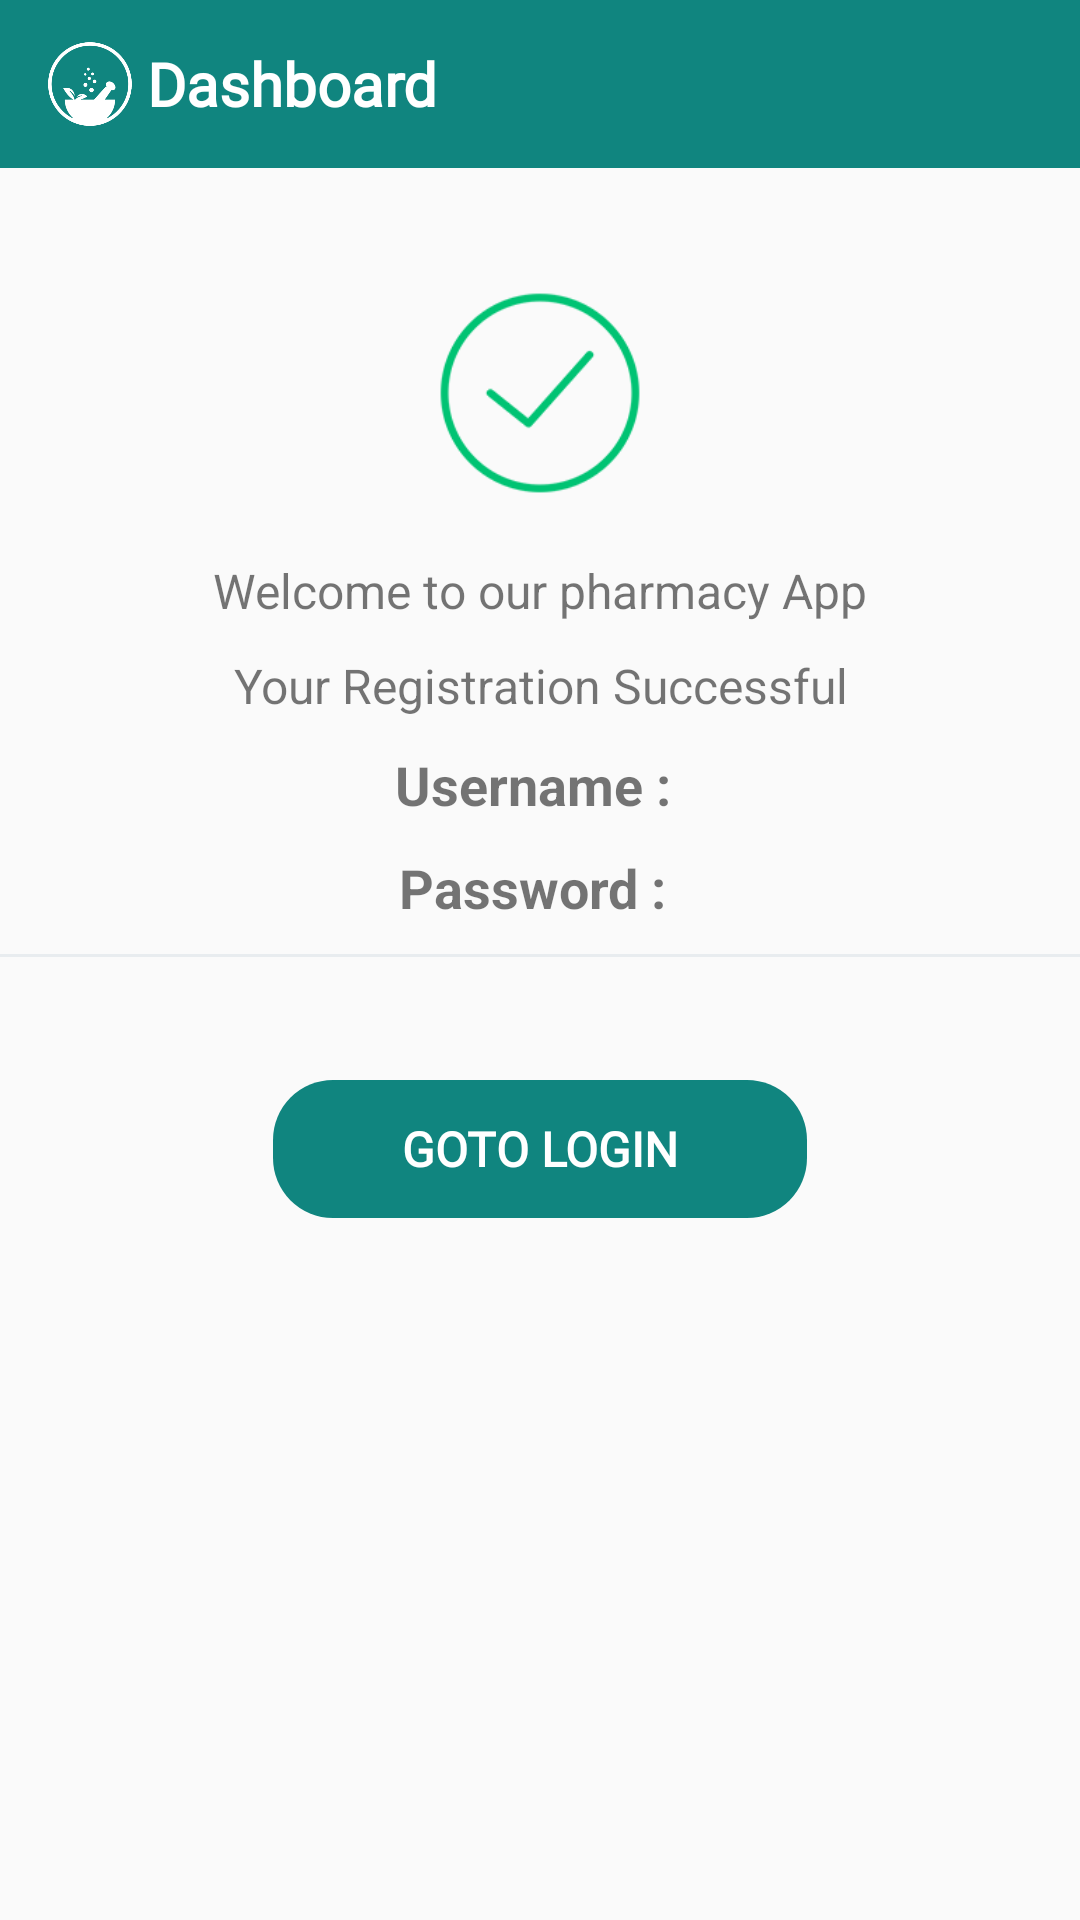

Locate icon controls on the screen. Image size 1080 x 1920, boxes as (x1, y1, x2, y2).
success: (440, 293, 640, 493)
